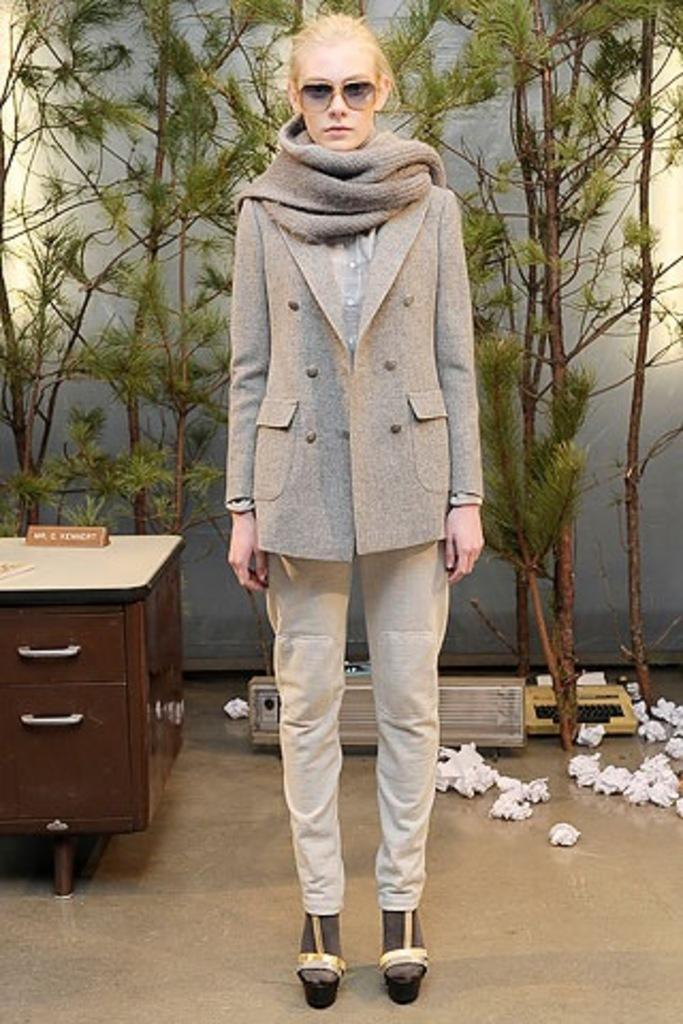cabinet_door: (6, 686, 130, 802), (3, 610, 125, 671)
handle: (16, 698, 87, 741), (16, 633, 82, 670)
